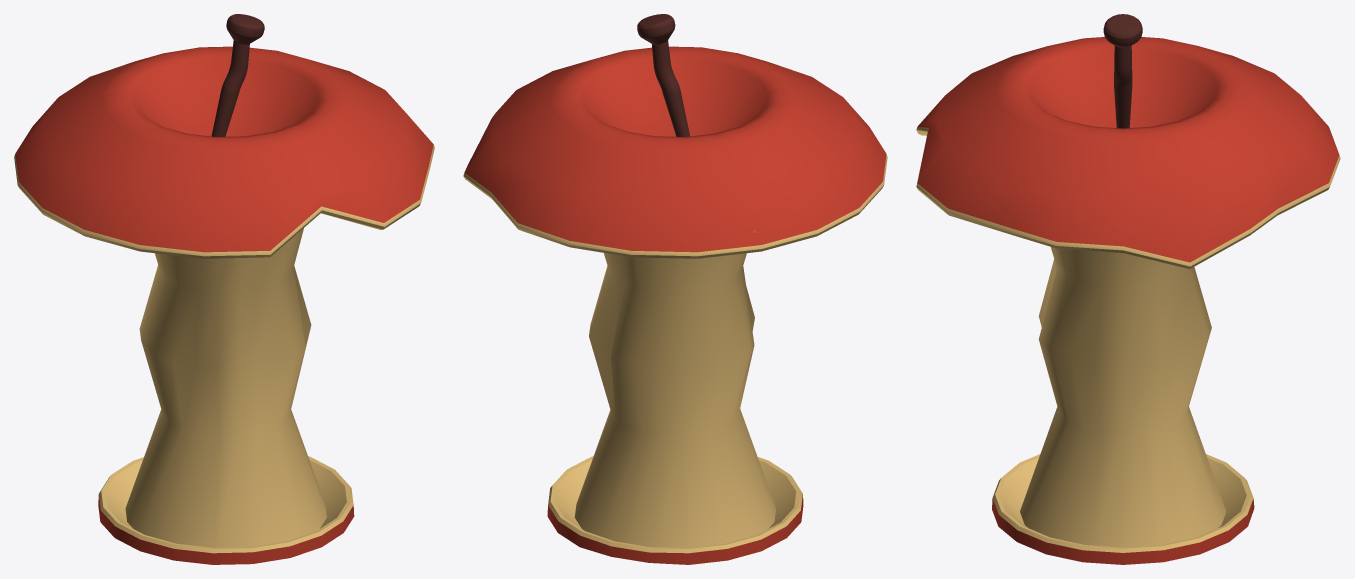
Rendered from apple core.fbx.
The picture shows the model from 3 angles, left to right: view 1: azimuth 30°, elevation 25°; view 2: azimuth 150°, elevation 25°; view 3: azimuth 270°, elevation 25°; orthographic projection.
Parts seen in each view (by area): view 1: pCylinderShape2; view 2: pCylinderShape2; view 3: pCylinderShape2.
Boxes of the visible parts, x1,y1,x2,y2 form: pCylinderShape2: (14,14,434,564); pCylinderShape2: (463,14,887,564); pCylinderShape2: (916,14,1340,564).
Size of the model in its own units: 11.66 by 15.5 by 11.38.
Materials: 1 (1 with a texture image).
